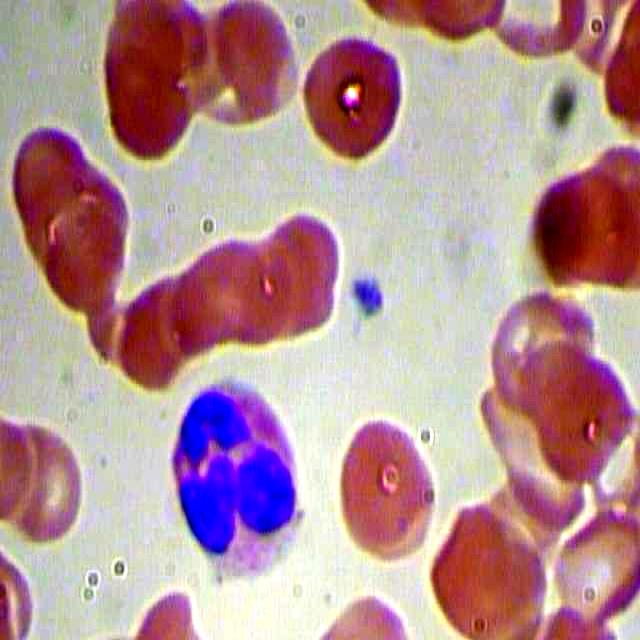Platelets: (347, 275, 391, 324)
RBC: (428, 490, 552, 640), (331, 413, 449, 558), (298, 30, 416, 174), (528, 346, 639, 494), (204, 1, 301, 140), (102, 53, 196, 163), (44, 199, 134, 312), (106, 277, 189, 395), (527, 165, 610, 283), (11, 119, 94, 236), (10, 424, 93, 541), (263, 200, 347, 308)
WBC: (157, 376, 309, 580)
